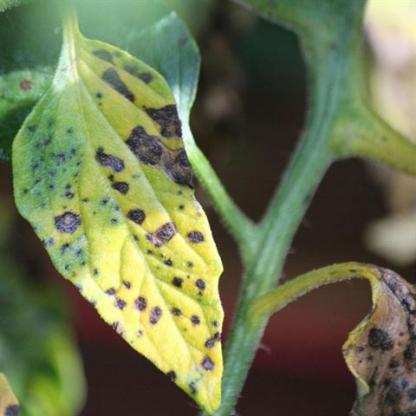tomato septoria leaf spot: (9, 39, 241, 414)
